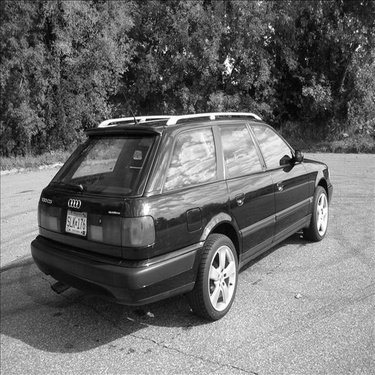car: (23, 99, 338, 327)
